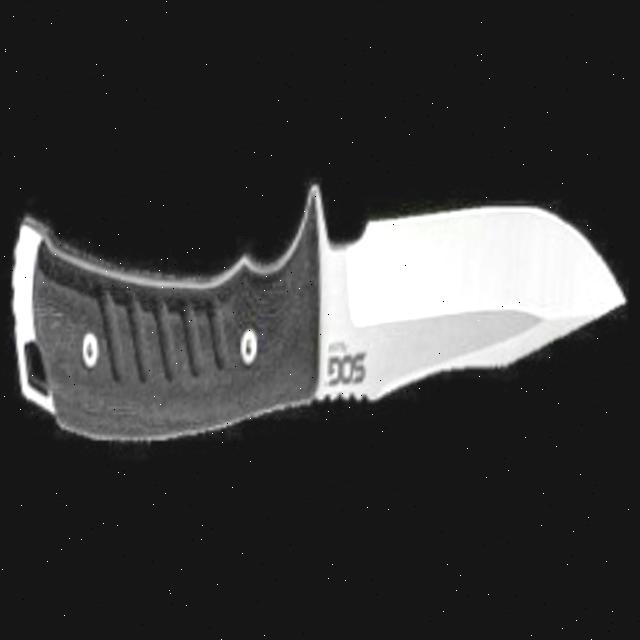pocket-knife: (4, 178, 635, 464)
